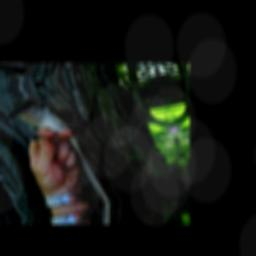Cuckoo: (0, 86, 116, 216)
